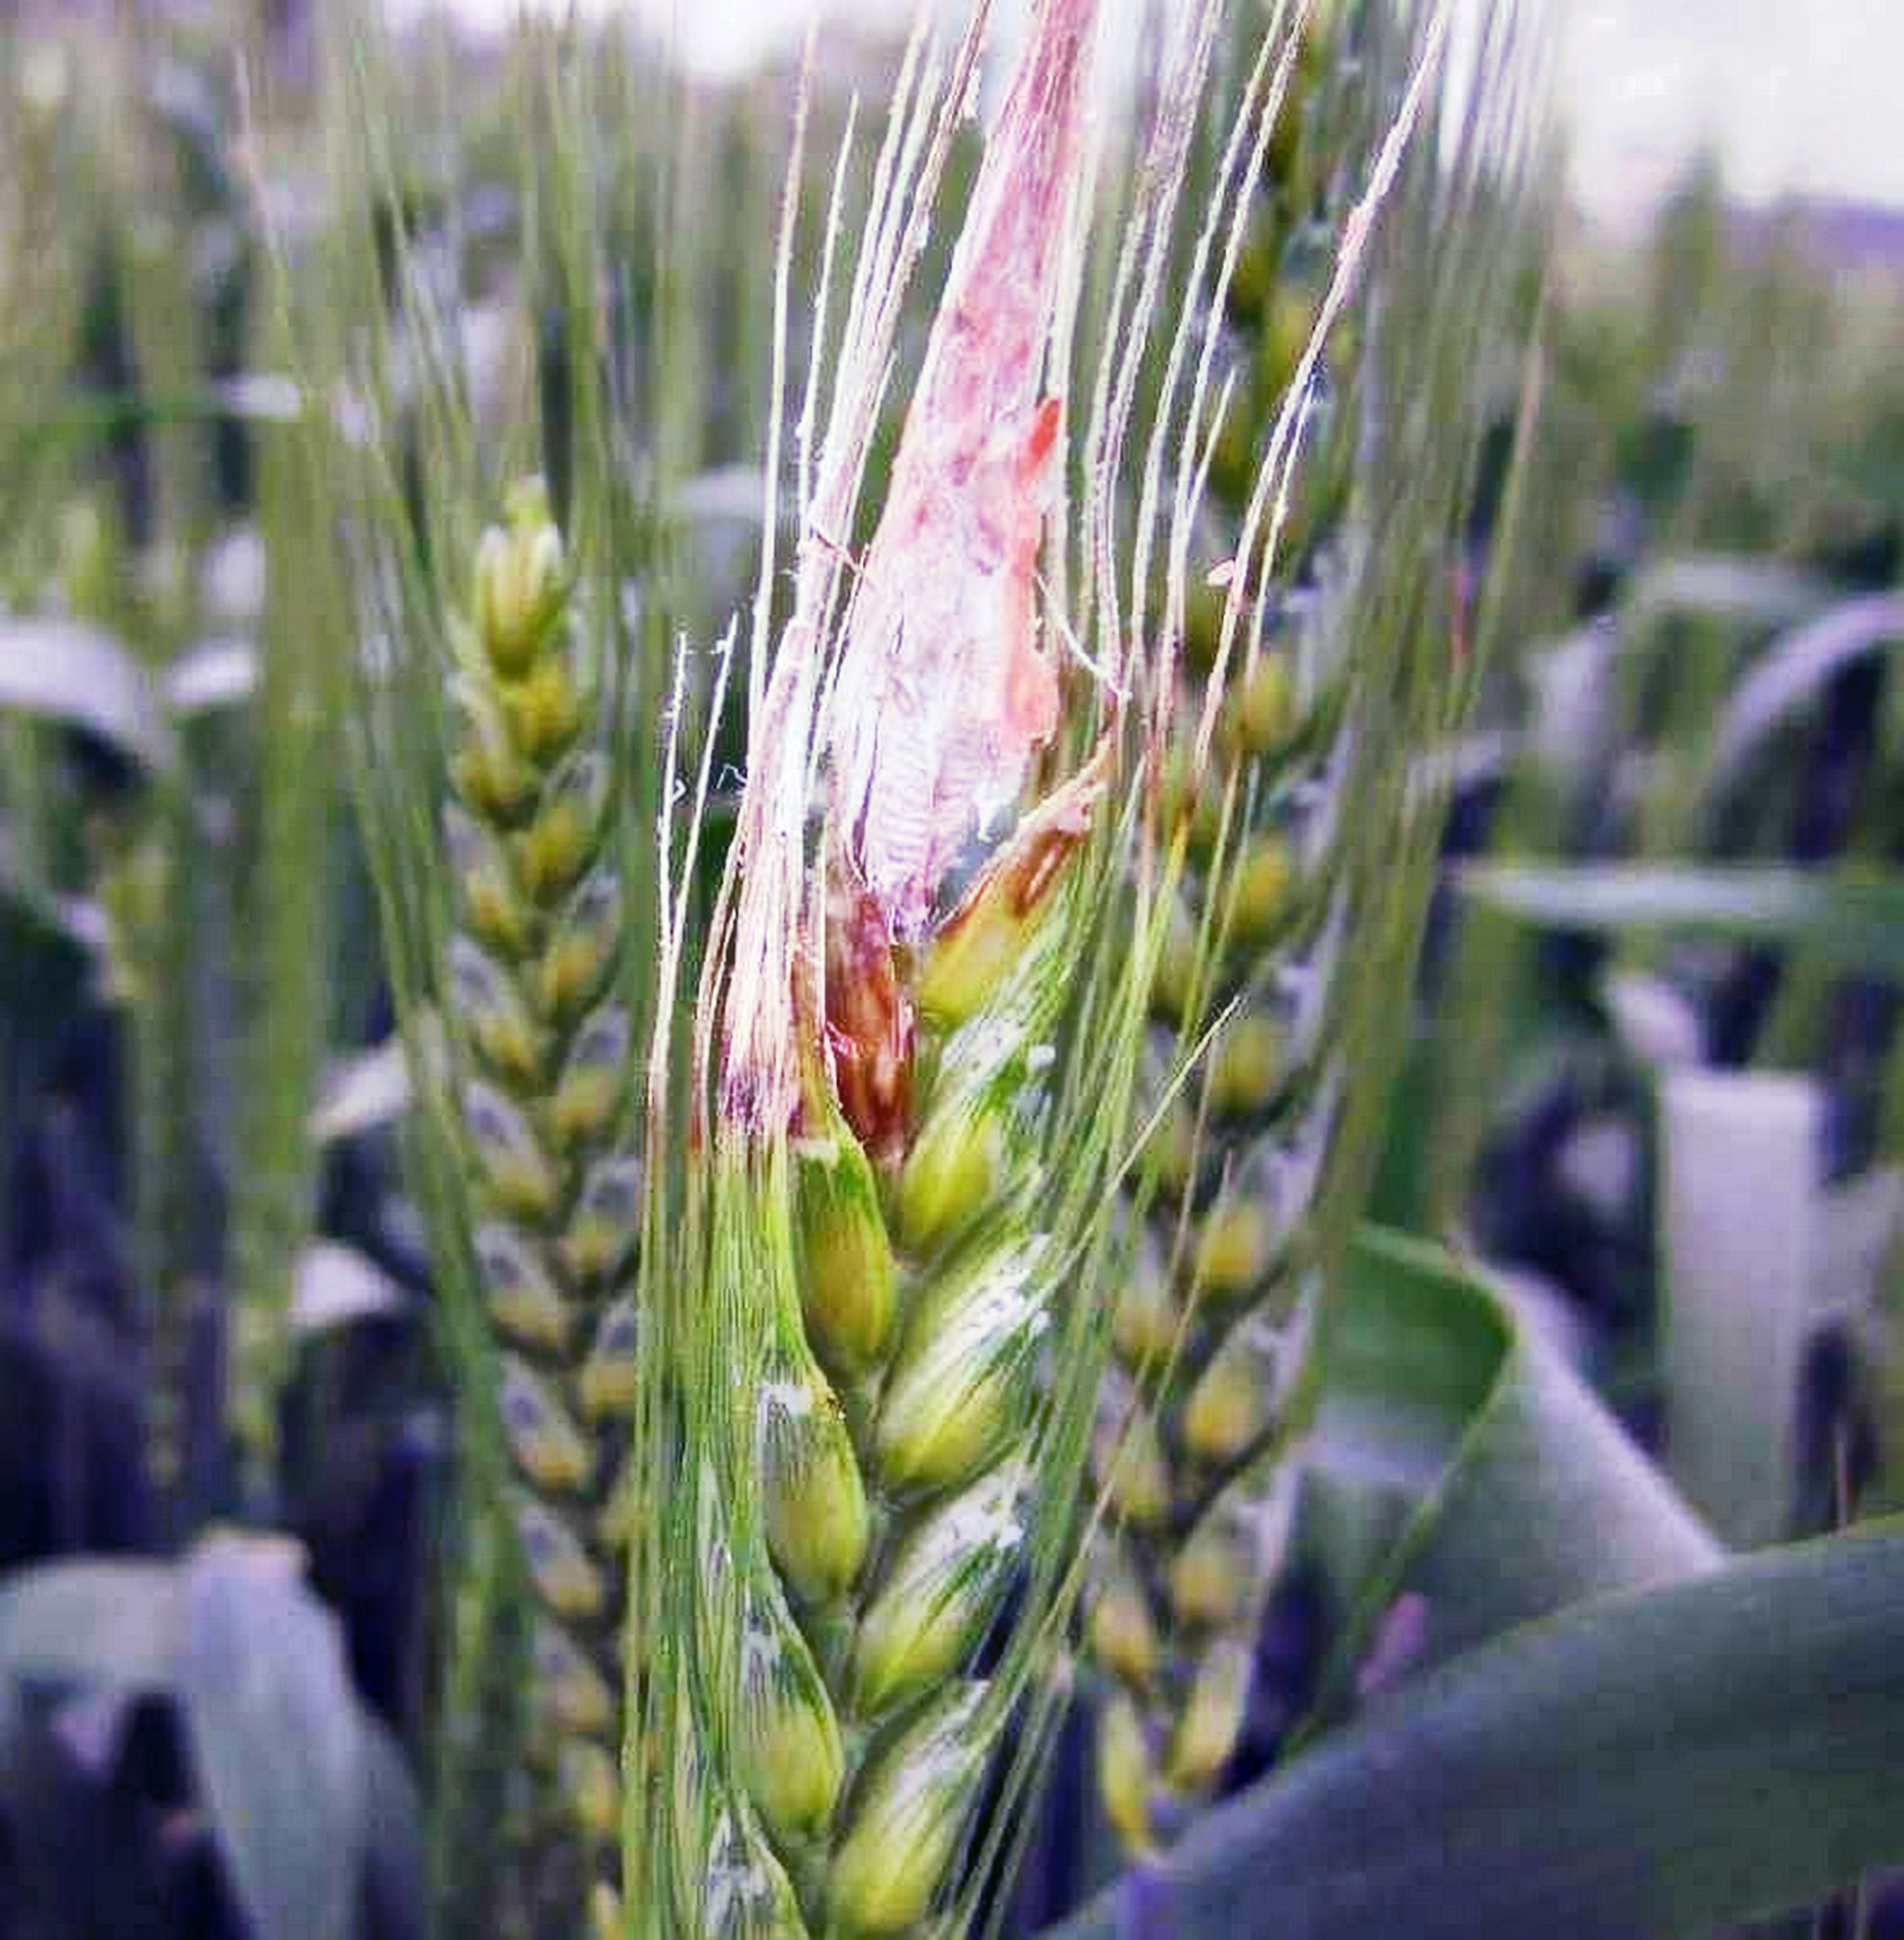Wheat scab: (663, 52, 1212, 1877)
